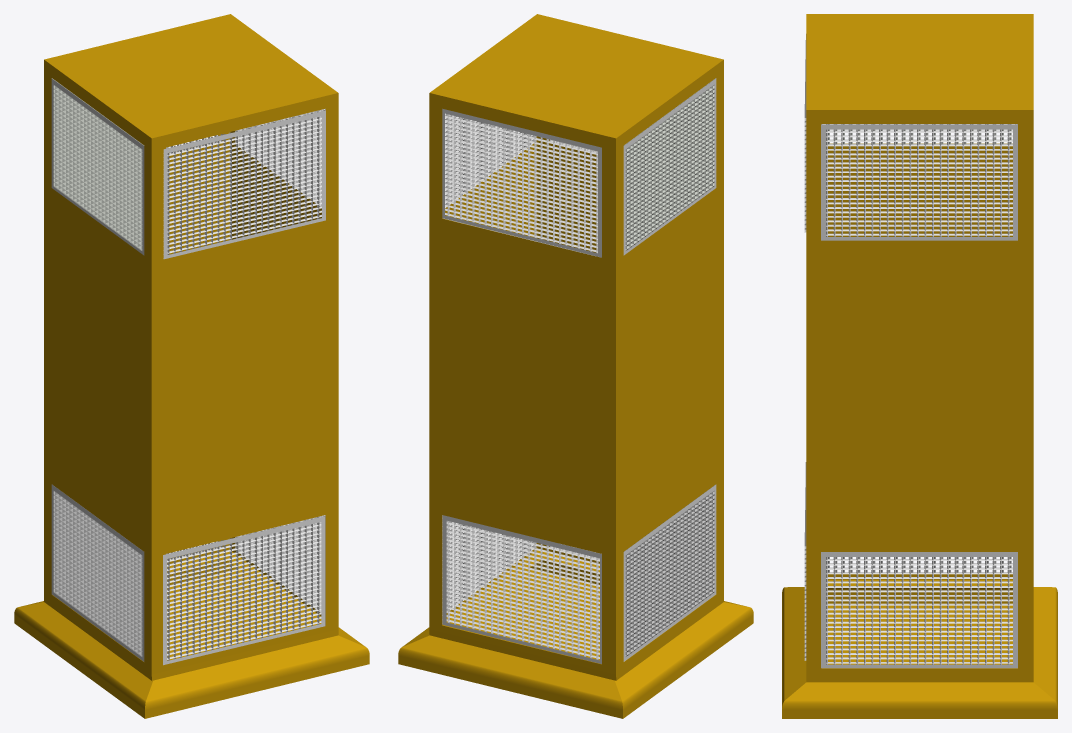
Rendered from Water Purifier Gold.glb.
3 renders of one model, left to right at view 1: azimuth 30°, elevation 25°; view 2: azimuth 150°, elevation 25°; view 3: azimuth 270°, elevation 25°, orthographic. The views are drawn at different scales.
Visible parts, largest first — view 1: Cube, Plane.007, Plane.022, Plane.001, Plane.006, Plane.008, Plane.023, Plane.012, Plane.003, Plane.005, Plane.002; view 2: Cube, Plane.021, Plane.025, Plane.001, Plane.006, Plane.012, Plane.010, Plane.024, Plane.003, Plane.005, Plane.002; view 3: Cube, Plane.012, Plane.003, Plane.004, Plane.011, Plane.001, Plane.006, Plane.007, Plane.022.
Boxes of the visible parts, x1,y1,x2,y2 form: Cube: [14, 14, 369, 718]; Plane.007: [167, 515, 325, 660]; Plane.022: [167, 109, 325, 254]; Plane.001: [52, 78, 144, 250]; Plane.006: [52, 484, 142, 656]; Plane.008: [163, 516, 325, 665]; Plane.023: [163, 110, 325, 259]; Plane.012: [235, 108, 325, 206]; Plane.003: [235, 515, 325, 612]; Plane.005: [51, 484, 144, 661]; Plane.002: [51, 78, 144, 255]; Cube: [398, 14, 753, 718]; Plane.021: [442, 515, 599, 659]; Plane.025: [443, 114, 597, 256]; Plane.001: [623, 78, 715, 250]; Plane.006: [625, 484, 715, 656]; Plane.012: [445, 113, 534, 207]; Plane.010: [442, 515, 601, 663]; Plane.024: [442, 108, 601, 257]; Plane.003: [446, 520, 534, 610]; Plane.005: [623, 484, 716, 661]; Plane.002: [623, 78, 716, 255]; Cube: [782, 14, 1057, 718]; Plane.012: [826, 124, 1015, 236]; Plane.003: [826, 557, 1012, 664]; Plane.004: [821, 552, 1017, 668]; Plane.011: [821, 124, 1017, 240]; Plane.001: [828, 124, 1017, 144]; Plane.006: [828, 557, 1012, 572]; Plane.007: [804, 462, 806, 660]; Plane.022: [804, 34, 806, 232].
Size of what is drawn, in the model's own units: 1.2 by 2.89 by 1.21.
